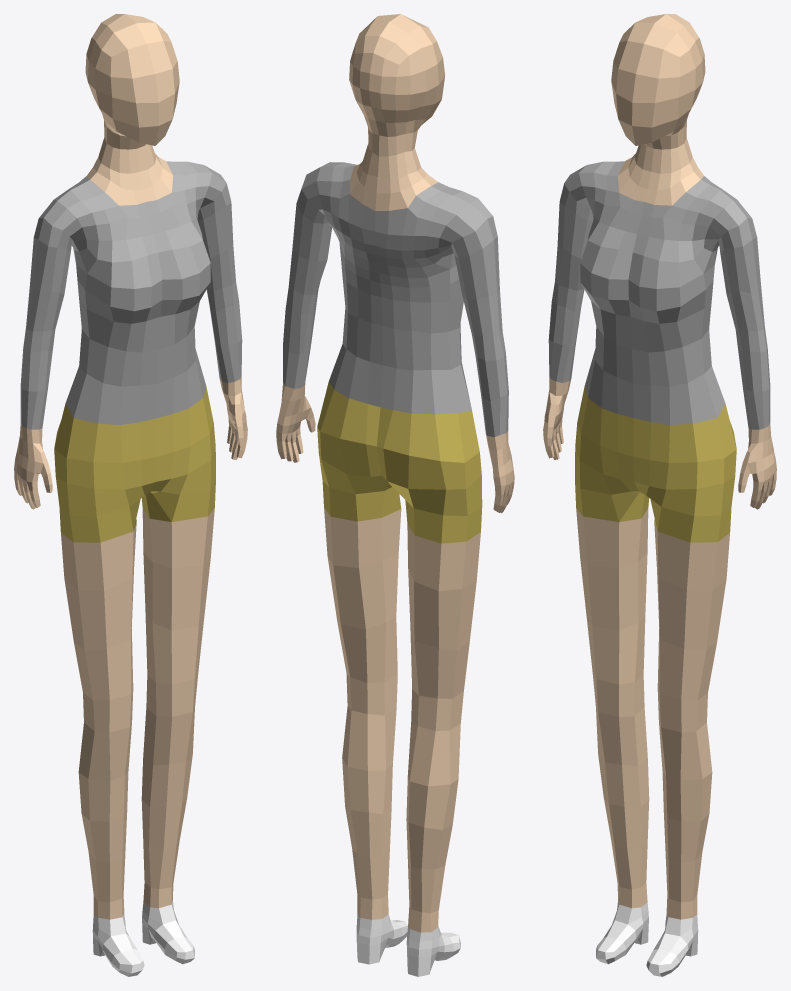
Rendered from Woman.obj.
3 views of the same model, side by side, from view 1: azimuth 30°, elevation 25°; view 2: azimuth 150°, elevation 25°; view 3: azimuth 330°, elevation 25° (orthographic).
Parts seen in each view (by area): view 1: girl; view 2: girl; view 3: girl.
Boxes of the visible parts, bbox=[...] form: girl: bbox=[14, 14, 247, 976]; girl: bbox=[276, 14, 514, 976]; girl: bbox=[543, 14, 776, 976].
Bounding box in the file's own units: 1.79 × 7.18 × 0.8686.
Materials: 1 (1 with a texture image).
